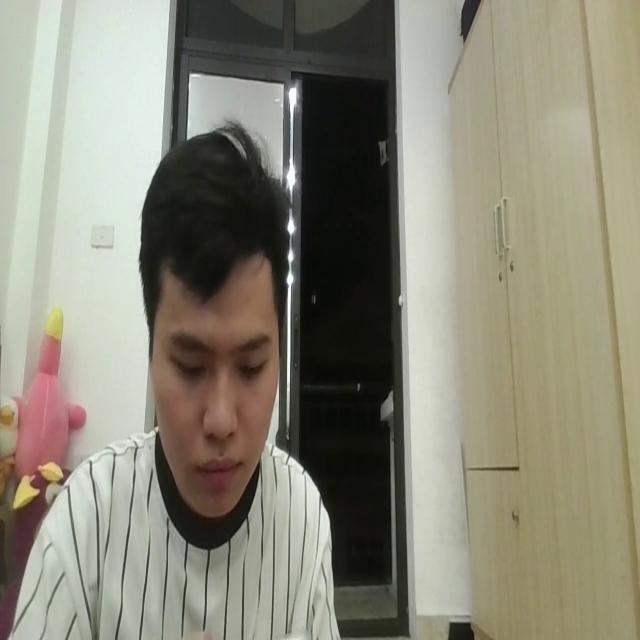student: (9, 115, 338, 640)
